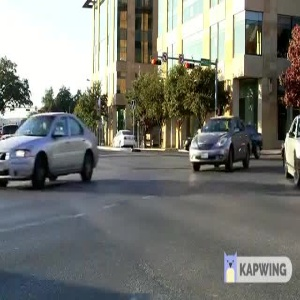car: (1, 110, 105, 187), (184, 114, 255, 171)
